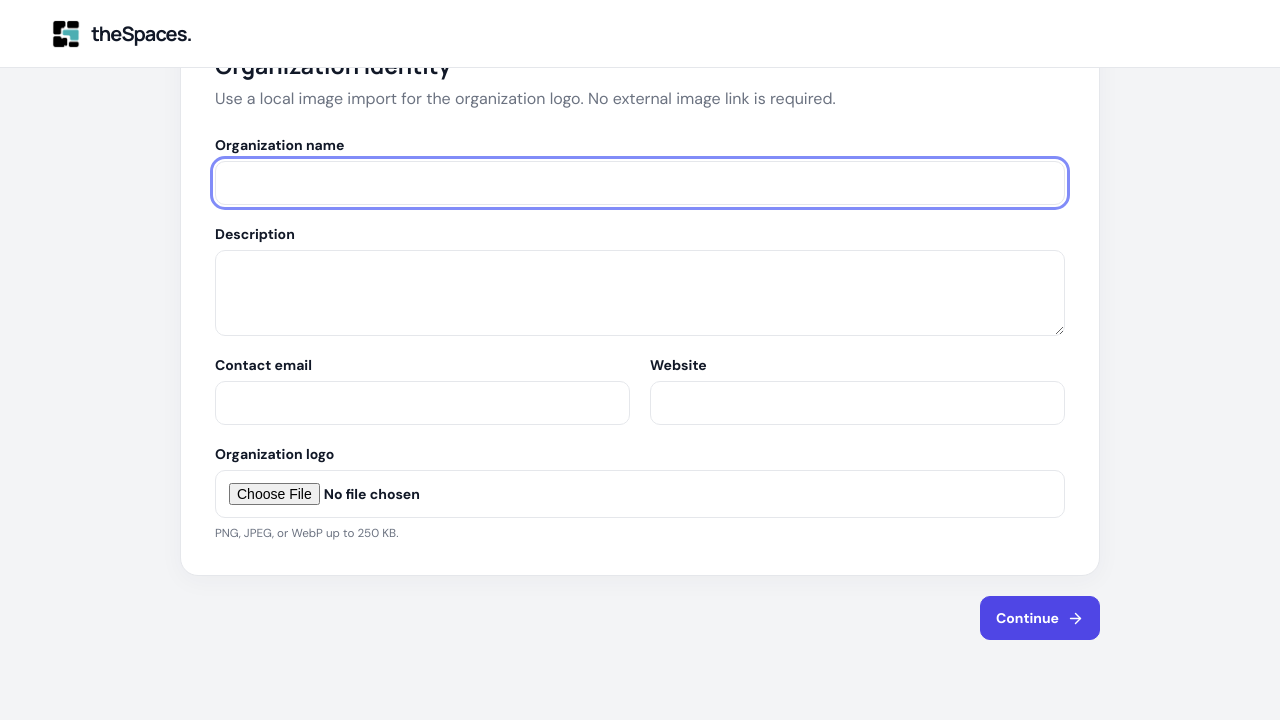
Test case: Milestone 2 onboarding states › shows validation, all major steps, and a free starting plan by default
(page scrolled)
Click the button "Continue". click: (1040, 618)
box: [980, 596, 1100, 640]
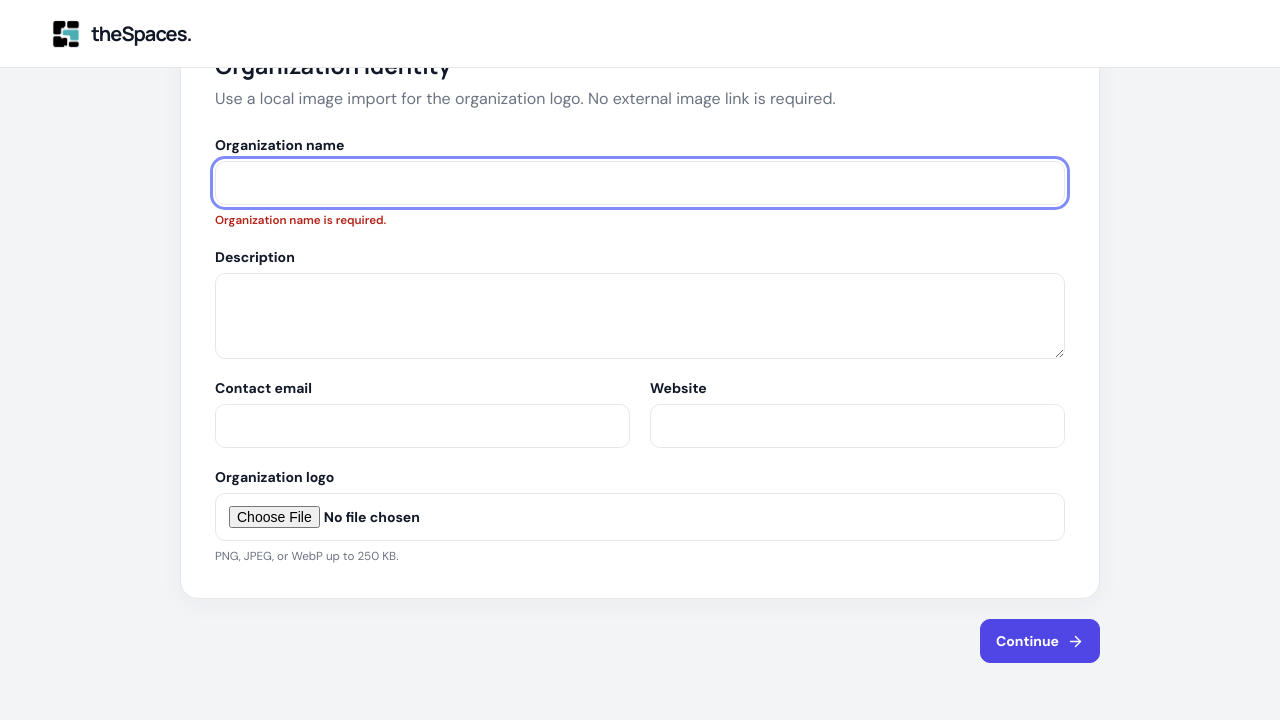
Expected: the text "Organization name is required." is shown, [215, 212, 386, 228]
Type "ArcInteractive" into the field labelled "Organization name Organization name is required.". click: (640, 183)
box: [215, 161, 1065, 205]
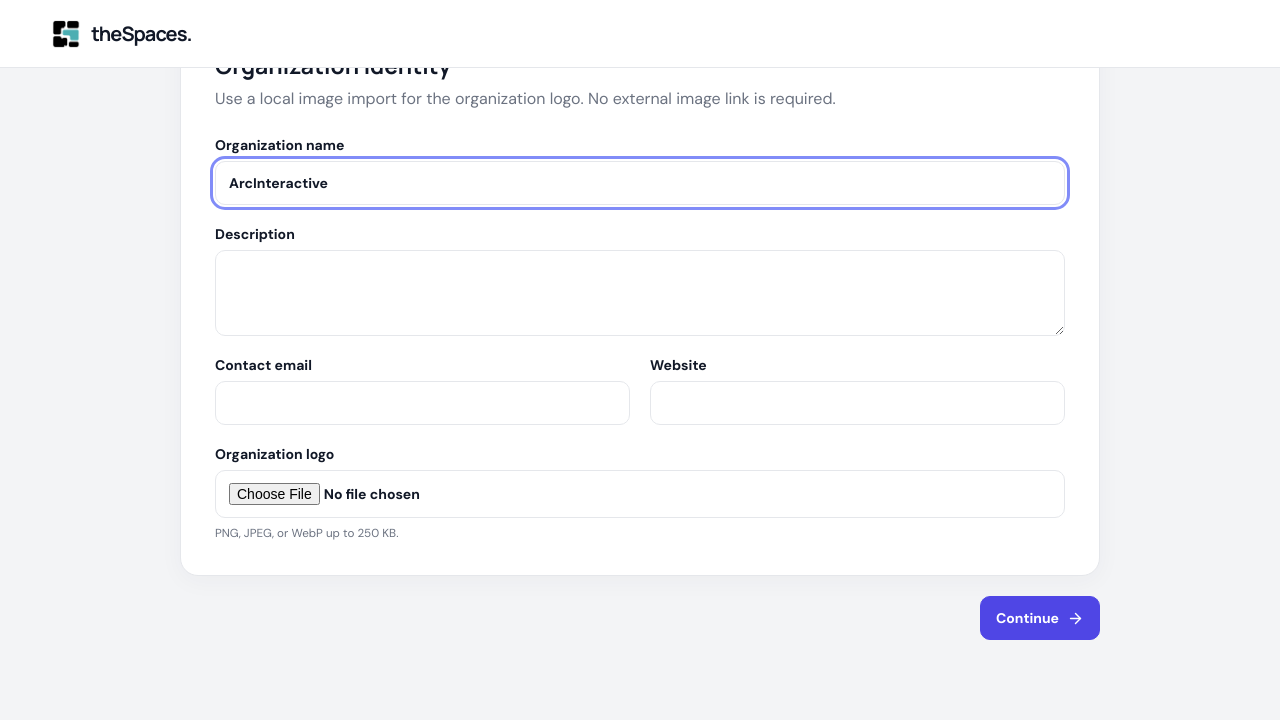
Click the button "Continue". click: (1040, 618)
box: [980, 596, 1100, 640]
(page scrolled)
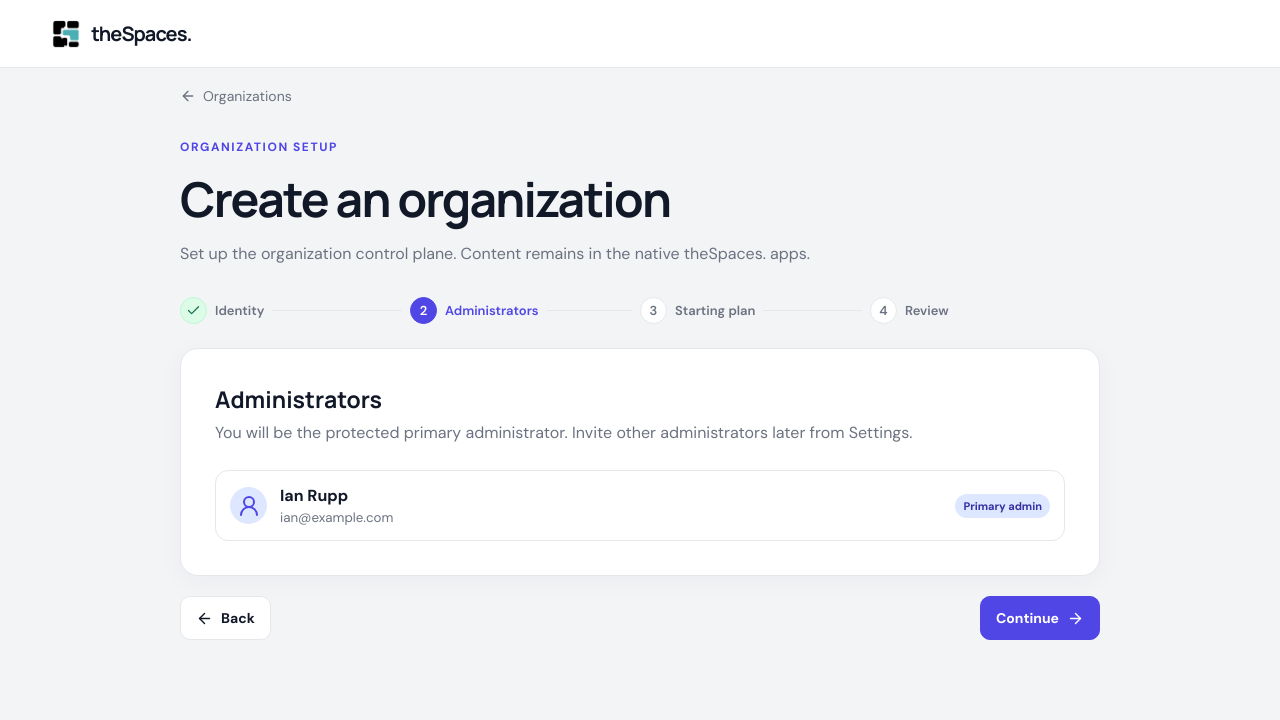
Expected: the heading "Administrators" is shown, [215, 383, 382, 415]
Click the button "Continue". click: (1040, 618)
box: [980, 596, 1100, 640]
(page scrolled)
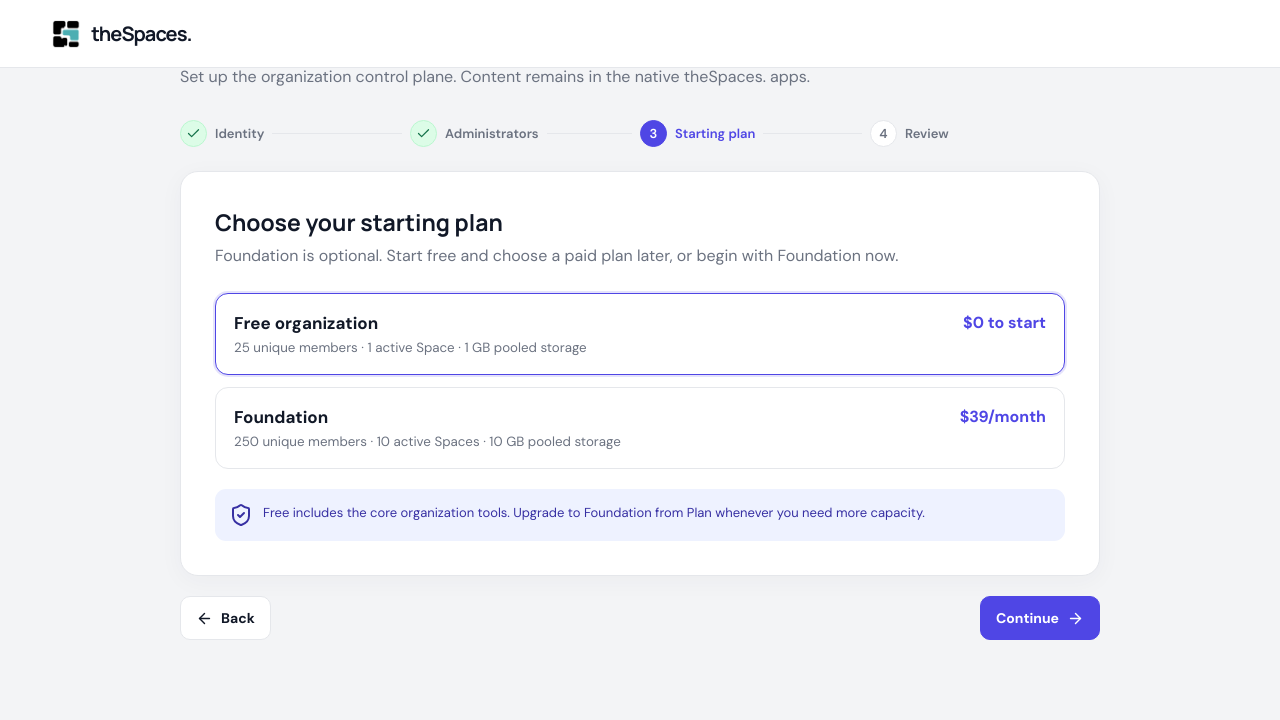
Expected: the heading "Choose your starting plan" is shown, [215, 206, 503, 238]
Expected: the text "Free organization" is shown, [234, 312, 378, 334]
Expected: the text "Foundation" is shown, [234, 406, 328, 428]
Click the button "Continue". click: (1040, 618)
box: [980, 596, 1100, 640]
(page scrolled)
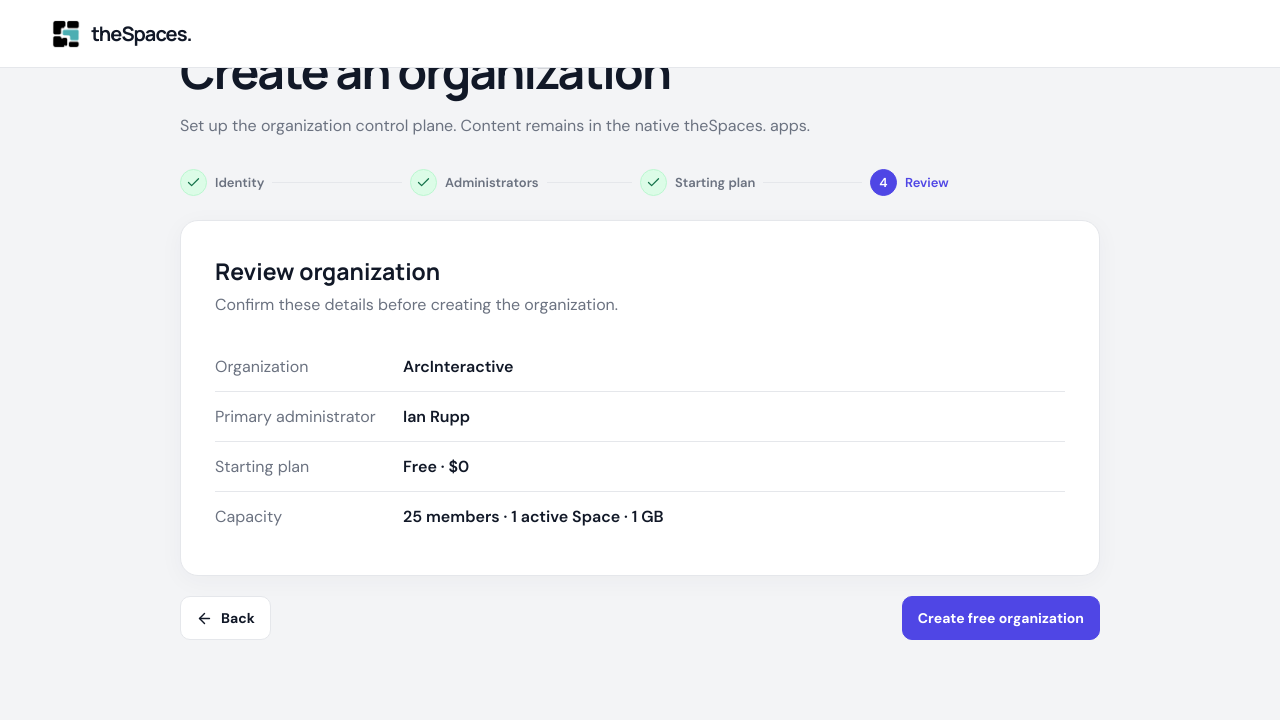
Expected: the heading "Review organization" is shown, [215, 255, 440, 287]
